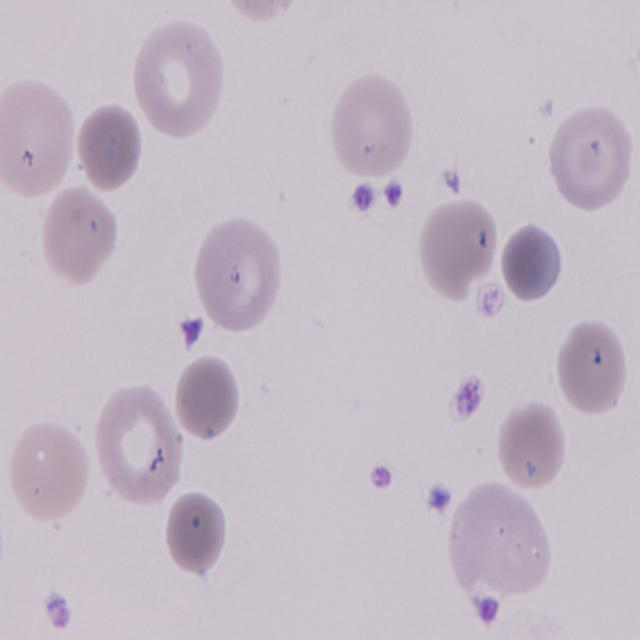RBC: (132, 21, 232, 142), (94, 382, 188, 506), (326, 64, 418, 180), (194, 219, 286, 334), (5, 414, 94, 527), (0, 74, 77, 198), (415, 196, 503, 304), (490, 394, 572, 502), (554, 310, 631, 420), (41, 182, 118, 286)
Spherocyte: (76, 100, 146, 192), (161, 487, 230, 580), (176, 354, 245, 444), (503, 223, 562, 304)
WBC: (444, 480, 553, 608)
